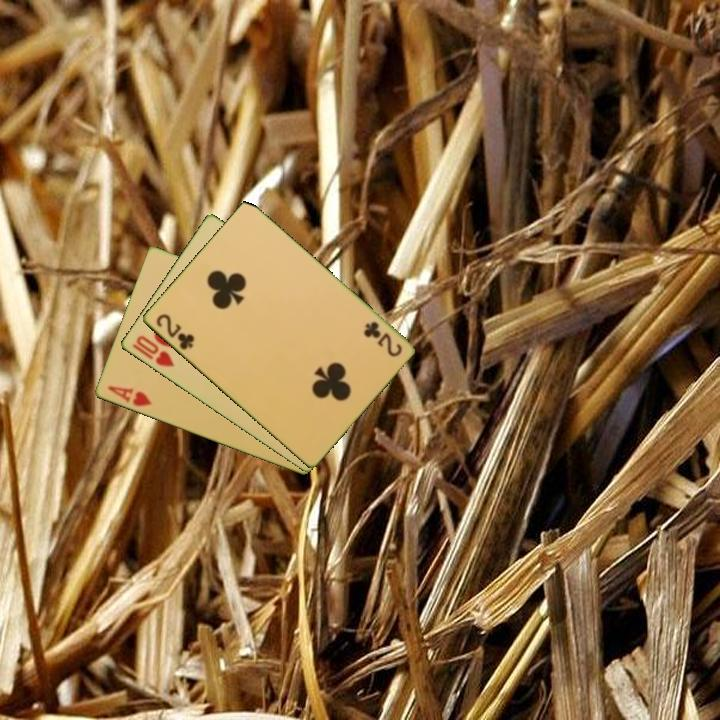10h: (128, 332, 177, 370)
2c: (152, 310, 197, 353), (360, 318, 405, 360)
Ah: (104, 382, 154, 410)
